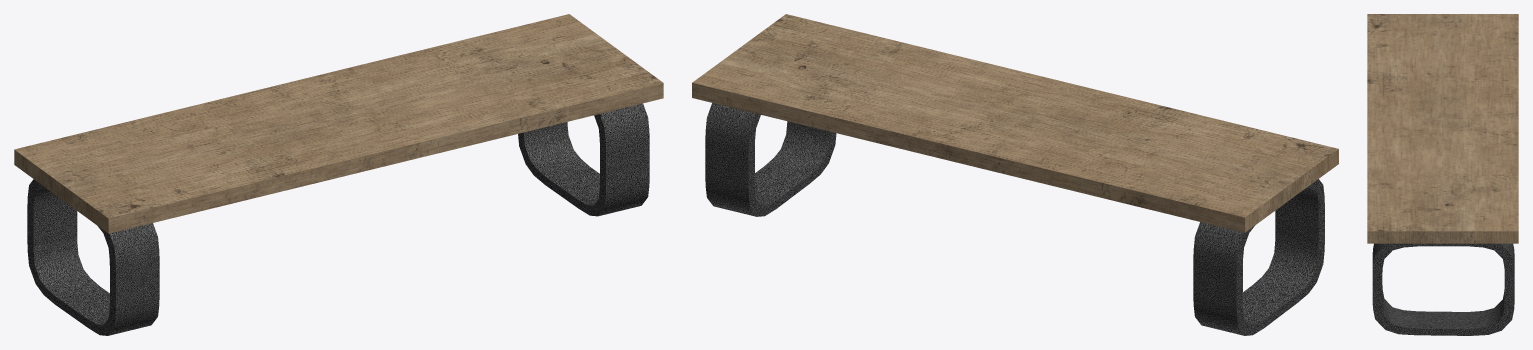
Rendered from Bench1.gltf.
3 renders of one model, left to right at view 1: azimuth 30°, elevation 25°; view 2: azimuth 150°, elevation 25°; view 3: azimuth 270°, elevation 25°, orthographic. The views are drawn at different scales.
Visible parts, largest first — view 1: pCube2; view 2: pCube2; view 3: pCube2.
Boxes of the visible parts, x1,y1,x2,y2 form: pCube2: [14, 14, 663, 335]; pCube2: [692, 14, 1338, 335]; pCube2: [1367, 14, 1518, 335].
Size of the model in its own units: 4.05 by 0.9451 by 1.19.
1 material, 1 textured.
